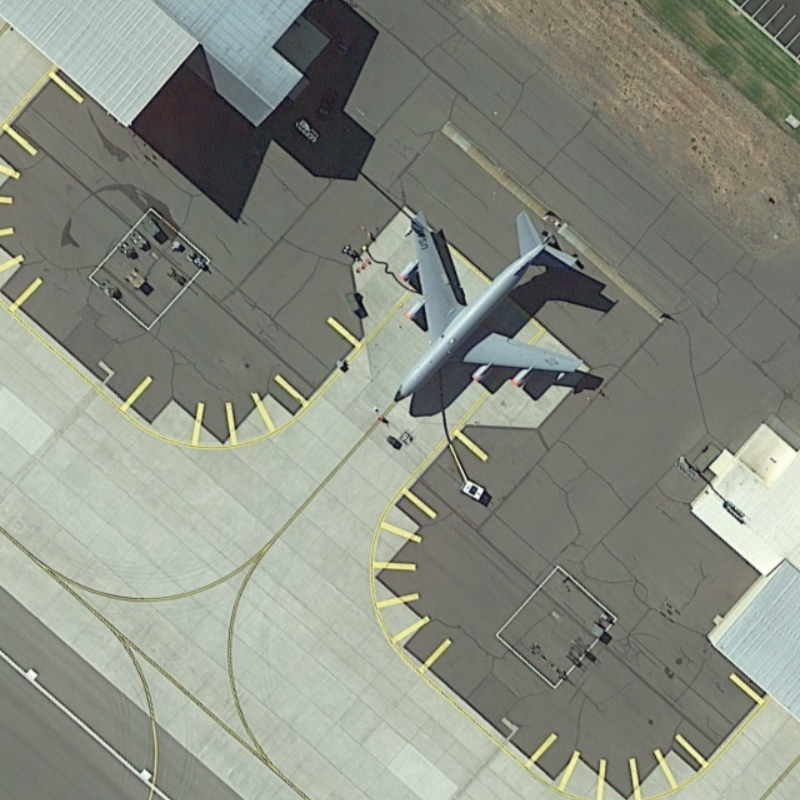A14: (384, 195, 612, 416)
